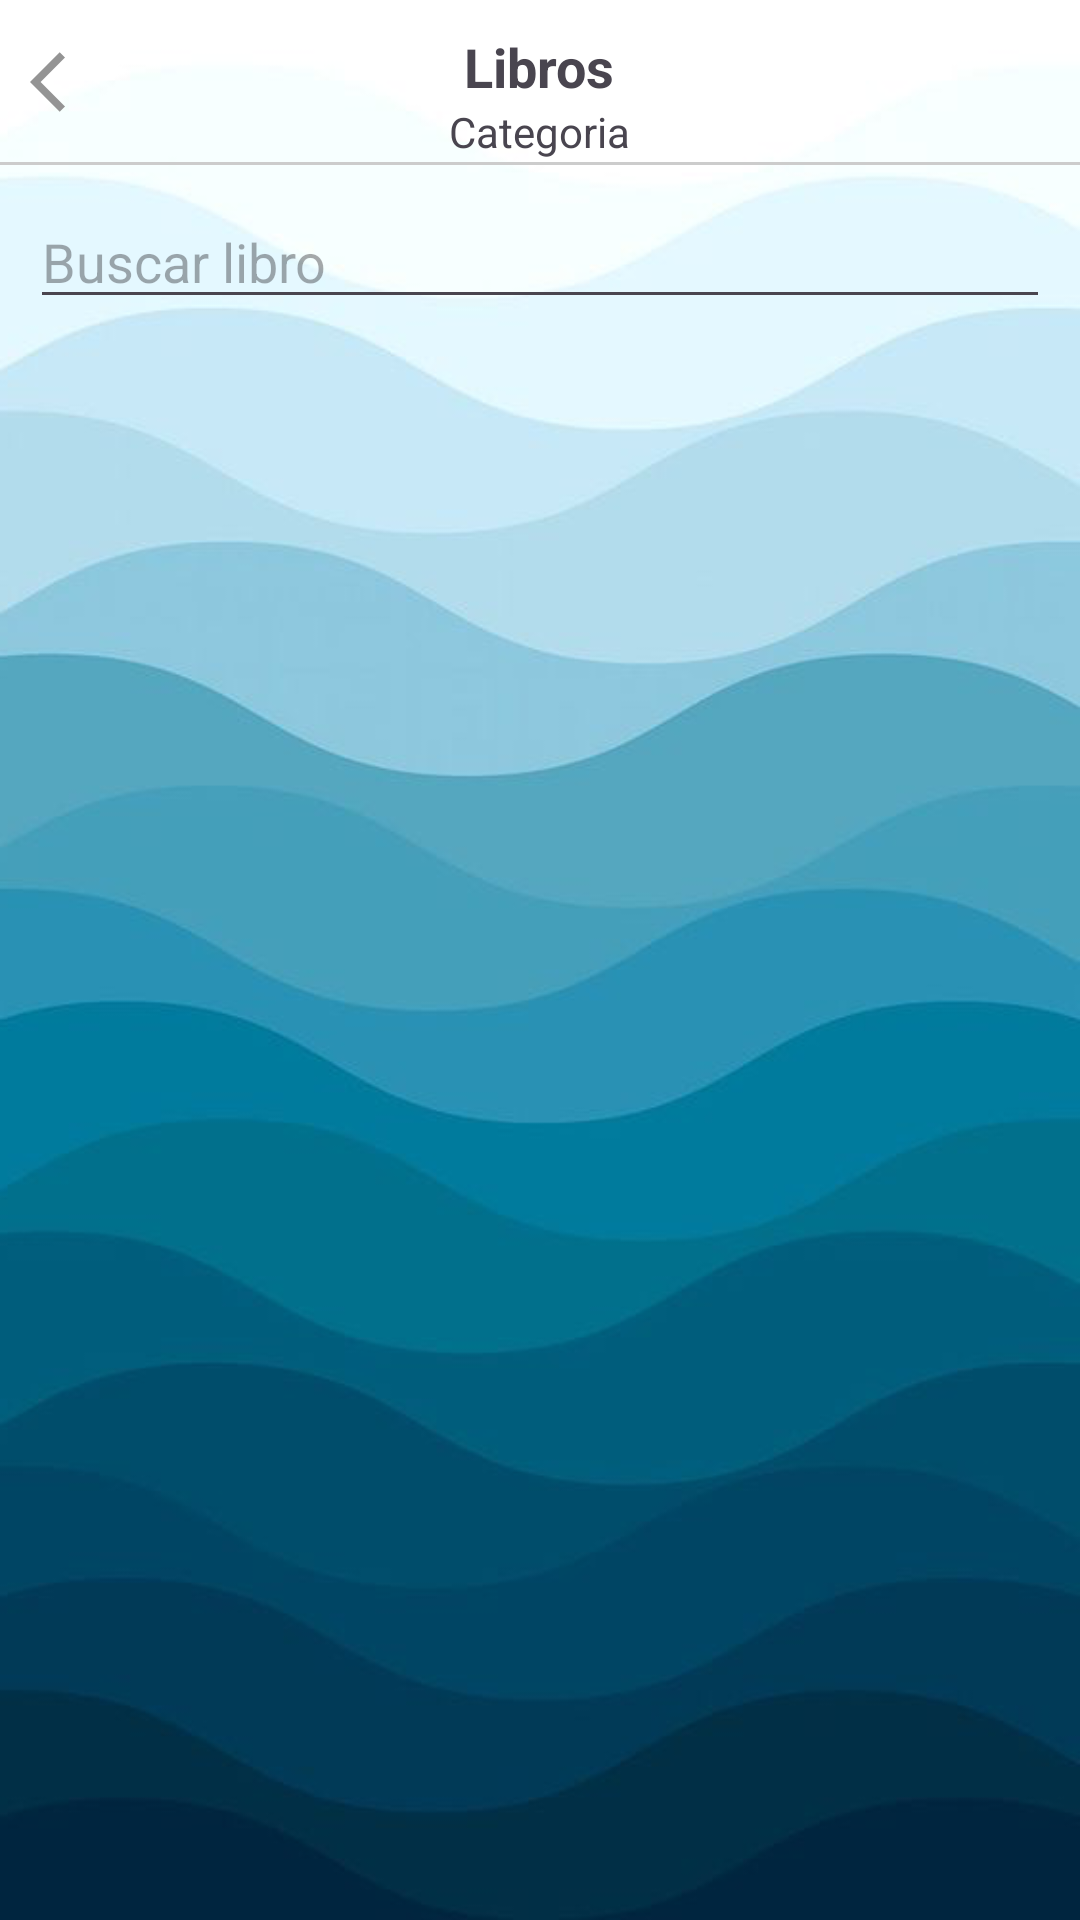

Named icons in this screenshot (1080 × 1920) and their centers, (x=x, y=y):
regresar: (x=47, y=82)
